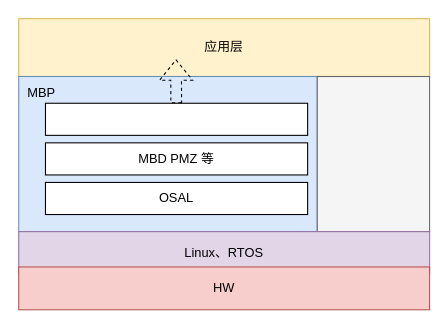
Some shapes in this 448 by 328 pixel diagram are drawn without their labels. The shapes that lost their labels are listed below. From the top down, each one's centre as x and y in pixels, then its label:
At [176,118]: "MBI接口".
At [373,153]: "其他drivers".
